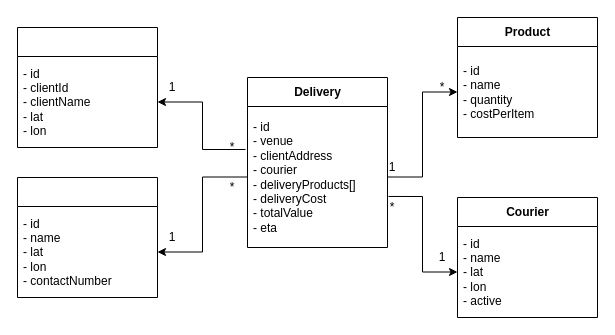
This 615x335 diagram has some shape labels left out. The shapes that lost their labels are listed below. From the top down, each one's box as (x1, y1, x2, y2) in pixels, then its label:
(16, 26, 158, 148): Client address
(16, 176, 158, 298): Venue
